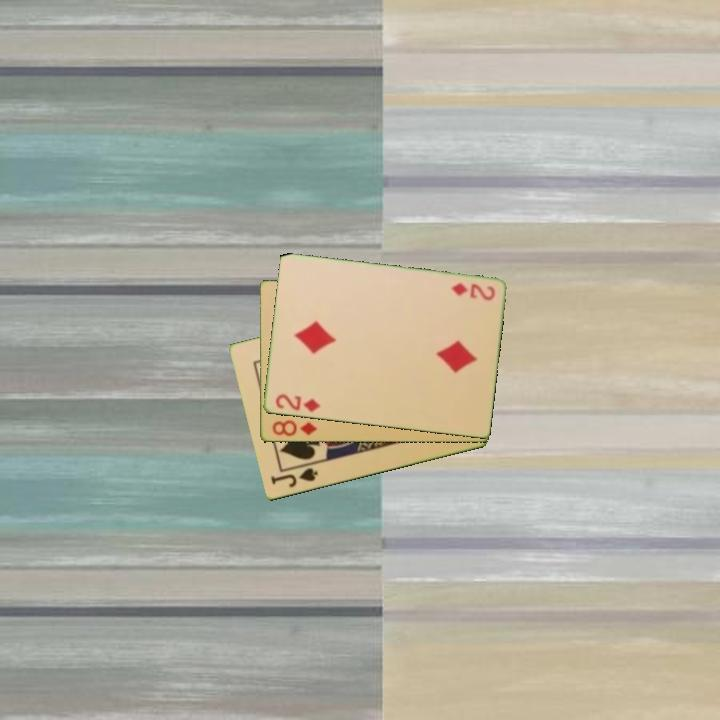2d: (272, 391, 323, 415), (447, 279, 498, 303)
8d: (269, 417, 320, 439)
Js: (267, 465, 321, 491)
